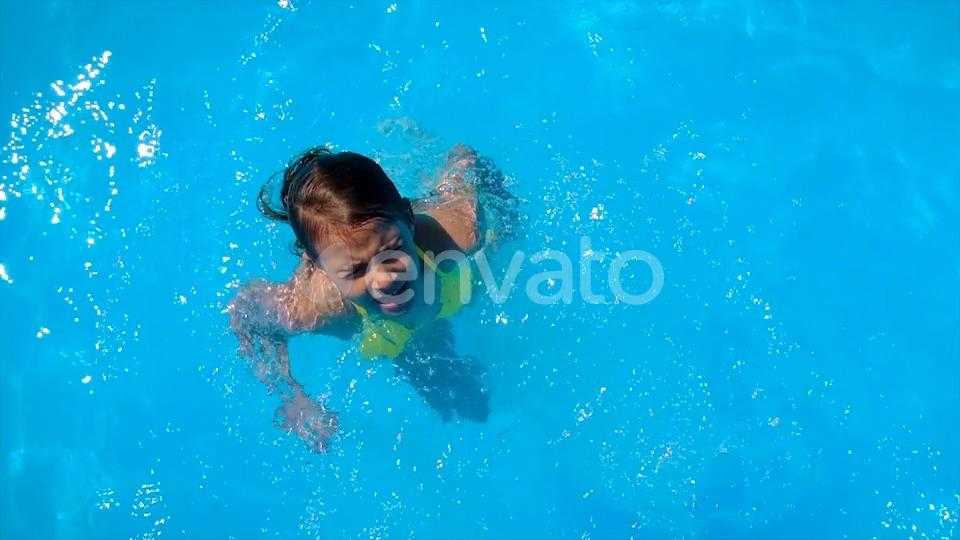Drowning: (158, 98, 632, 444)
